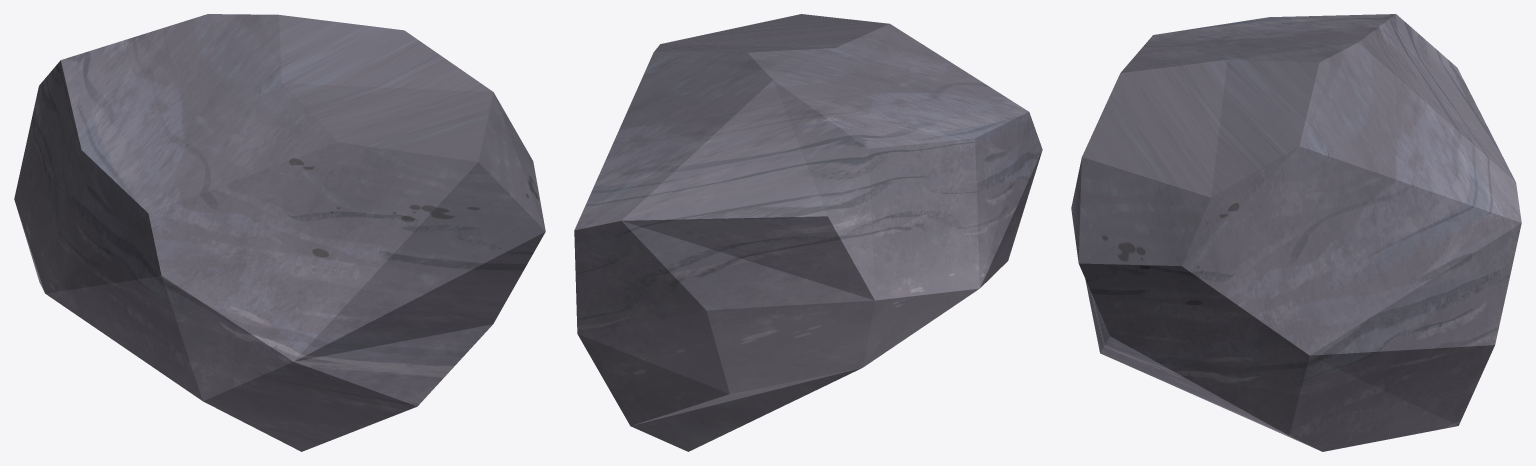
The model's file is rock_2_008.fbx.
The picture shows the model from 3 angles, left to right: view 1: azimuth 30°, elevation 25°; view 2: azimuth 150°, elevation 25°; view 3: azimuth 270°, elevation 25°; orthographic projection. The views are drawn at different scales.
Visible parts, largest first — view 1: rock 2.008; view 2: rock 2.008; view 3: rock 2.008.
Boxes of the visible parts, x1,y1,x2,y2 form: rock 2.008: [14, 14, 545, 451]; rock 2.008: [574, 14, 1042, 451]; rock 2.008: [1071, 14, 1521, 451].
Size of the model in its own units: 830 by 751 by 833.
